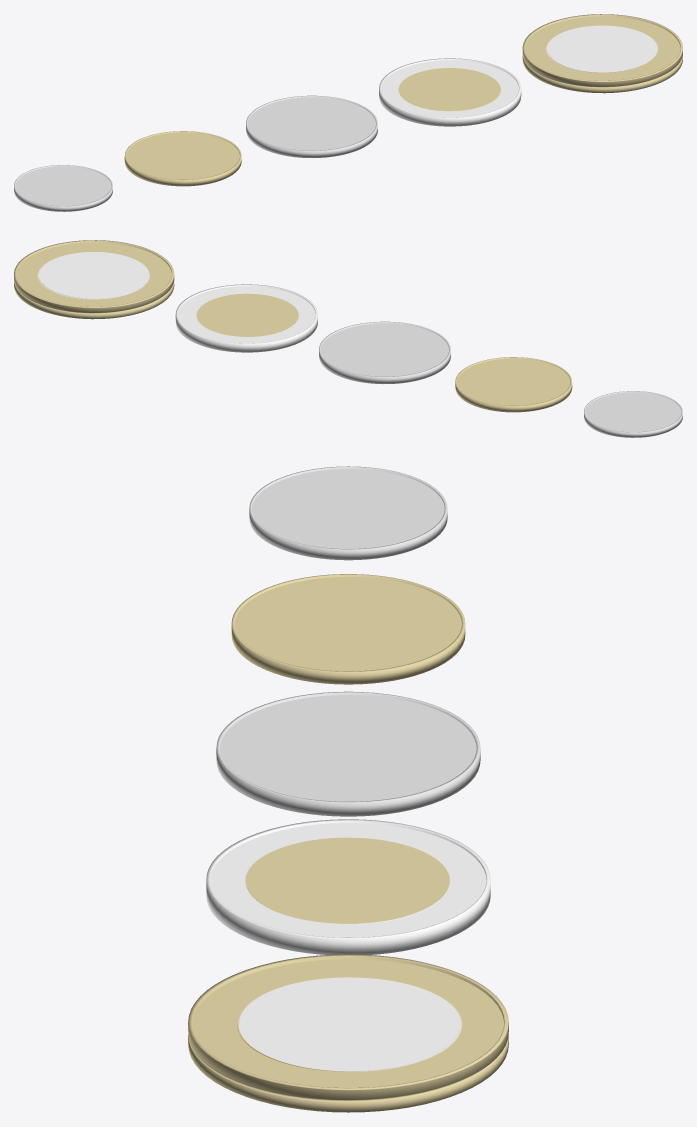
Rendered from uploads_files_3106133_Colombian+Coins.fbx.
3 views of the same model, one above another, from view 1: azimuth 30°, elevation 25°; view 2: azimuth 150°, elevation 25°; view 3: azimuth 270°, elevation 25° (orthographic). The views are drawn at different scales.
Visible parts, largest first — view 1: Moneda 500.001, Moneda 500, Moneda 200, Moneda 100, Moneda 50; view 2: Moneda 500.001, Moneda 500, Moneda 200, Moneda 100, Moneda 50; view 3: Moneda 500.001, Moneda 500, Moneda 200, Moneda 100, Moneda 50.
Boxes of the visible parts, left/top/right/bottom form: Moneda 500.001: left=522, top=14, right=682, bottom=93; Moneda 500: left=379, top=58, right=521, bottom=126; Moneda 200: left=246, top=95, right=377, bottom=157; Moneda 100: left=124, top=131, right=241, bottom=186; Moneda 50: left=14, top=165, right=112, bottom=211; Moneda 500.001: left=14, top=240, right=174, bottom=319; Moneda 500: left=175, top=284, right=317, bottom=352; Moneda 200: left=319, top=321, right=450, bottom=383; Moneda 100: left=455, top=357, right=572, bottom=412; Moneda 50: left=584, top=391, right=682, bottom=437; Moneda 500.001: left=188, top=954, right=508, bottom=1112; Moneda 500: left=206, top=819, right=490, bottom=954; Moneda 200: left=216, top=691, right=480, bottom=816; Moneda 100: left=231, top=574, right=465, bottom=684; Moneda 50: left=249, top=466, right=447, bottom=560.
Bounding box in the file's own units: 12.54 × 0.2077 × 2.67.
